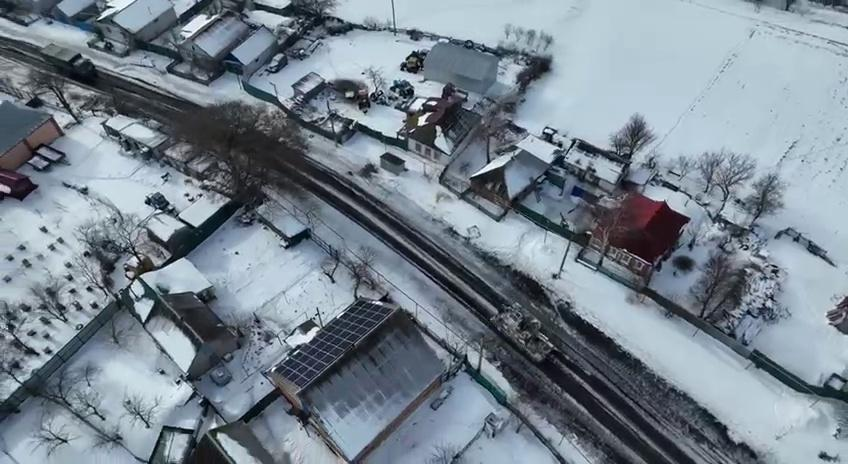car: (142, 186, 176, 214), (388, 78, 418, 100), (398, 57, 424, 78), (409, 45, 432, 64)
sau: (492, 302, 592, 377)
truck: (38, 42, 97, 81)
